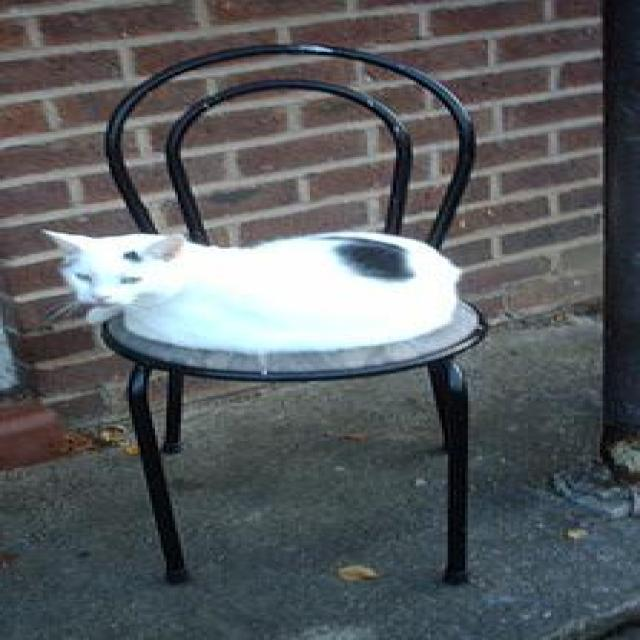chair: (95, 42, 488, 585)
